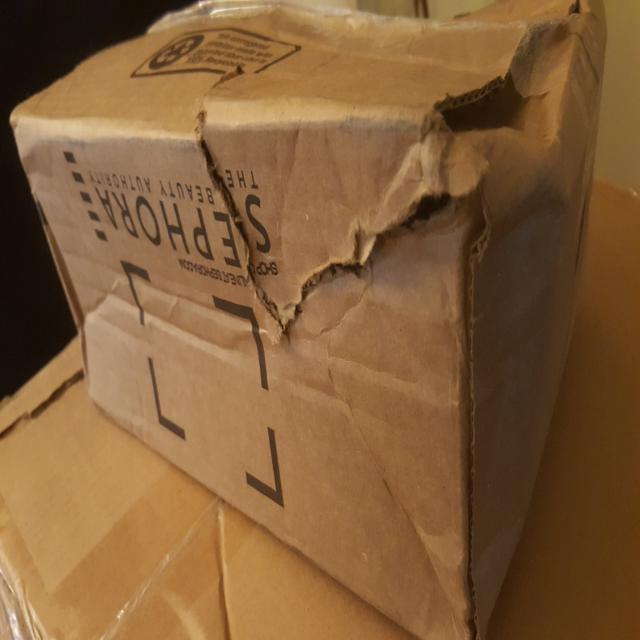hole: (199, 138, 459, 336), (414, 81, 551, 135)
